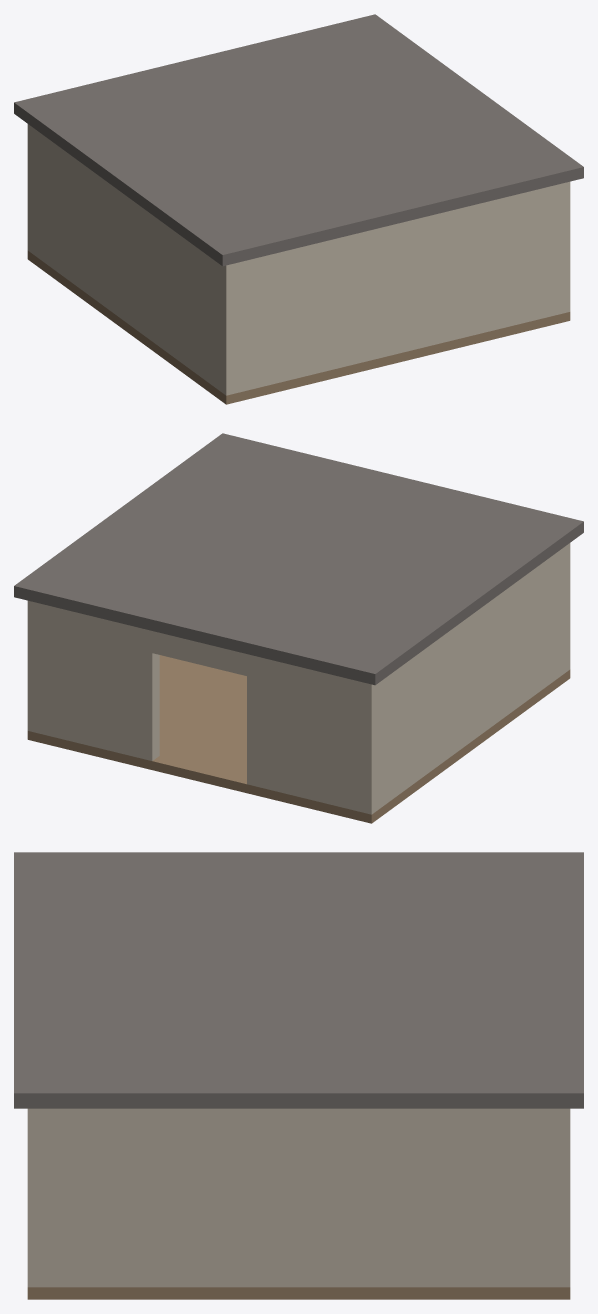
Rendered from hut.glb.
3 views of the same model, one above another, from view 1: azimuth 30°, elevation 25°; view 2: azimuth 150°, elevation 25°; view 3: azimuth 270°, elevation 25° (orthographic). The views are drawn at different scales.
Visible parts, largest first — view 1: roof_mesh, wall_back, wall_left, floor_ground, wall_front_left; view 2: roof_mesh, wall_left, wall_front_left, wall_front_right, floor_ground, wall_front_lintel, wall_back; view 3: roof_mesh, wall_right, floor_ground, wall_back, wall_front_right.
Boxes of the visible parts, x1,y1,x2,y2 form: roof_mesh: [14, 14, 583, 266]; wall_back: [218, 181, 570, 395]; wall_left: [35, 129, 218, 389]; floor_ground: [27, 250, 570, 404]; wall_front_left: [27, 124, 34, 255]; roof_mesh: [14, 433, 583, 685]; wall_left: [379, 548, 562, 808]; wall_front_left: [247, 654, 379, 814]; wall_front_right: [27, 600, 159, 760]; floor_ground: [27, 655, 570, 823]; wall_front_lintel: [152, 631, 246, 675]; wall_back: [563, 543, 570, 674]; roof_mesh: [14, 852, 583, 1108]; wall_right: [48, 1108, 549, 1287]; floor_ground: [27, 1287, 570, 1299]; wall_back: [27, 1108, 47, 1287]; wall_front_right: [550, 1108, 570, 1287].
Size of what is drawn, in the model's own units: 8.4 by 3.45 by 8.4.
